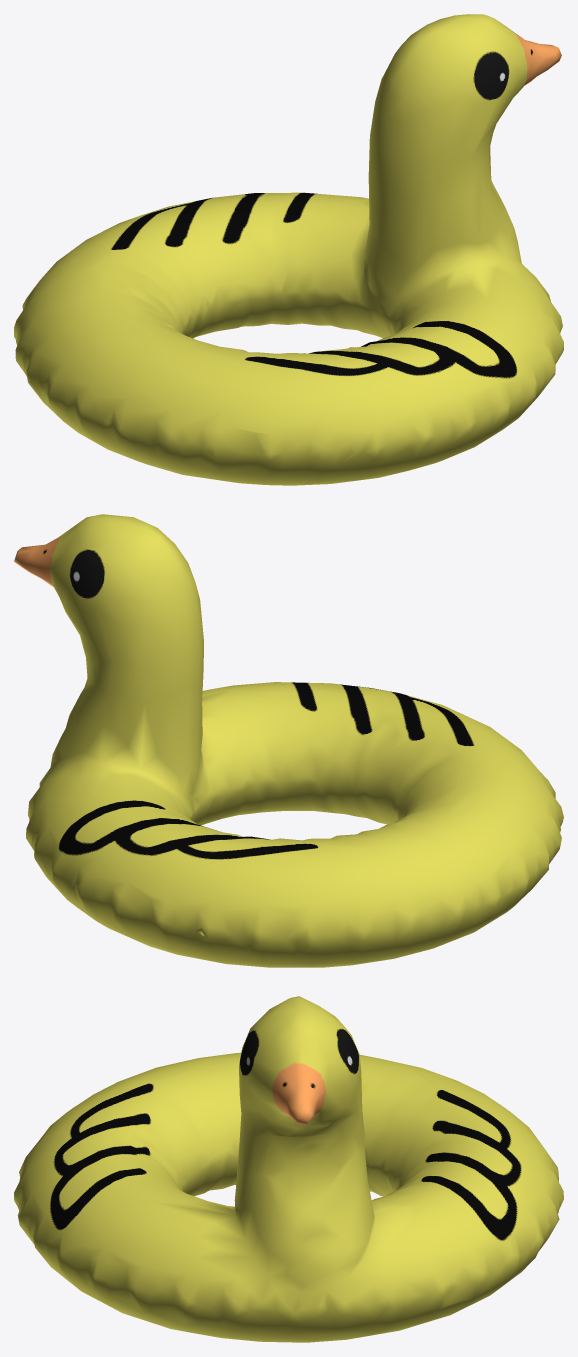
File: duck.fbx
3 renders of one model, top to bottom at view 1: azimuth 30°, elevation 25°; view 2: azimuth 150°, elevation 25°; view 3: azimuth 270°, elevation 25°, orthographic. The views are drawn at different scales.
Visible parts, largest first — view 1: BezierCurve; view 2: BezierCurve; view 3: BezierCurve.
Boxes of the visible parts, x1,y1,x2,y2 form: BezierCurve: [14, 14, 563, 485]; BezierCurve: [14, 514, 563, 967]; BezierCurve: [14, 996, 563, 1342].
Bounding box in the file's own units: 210 × 129 × 194.
